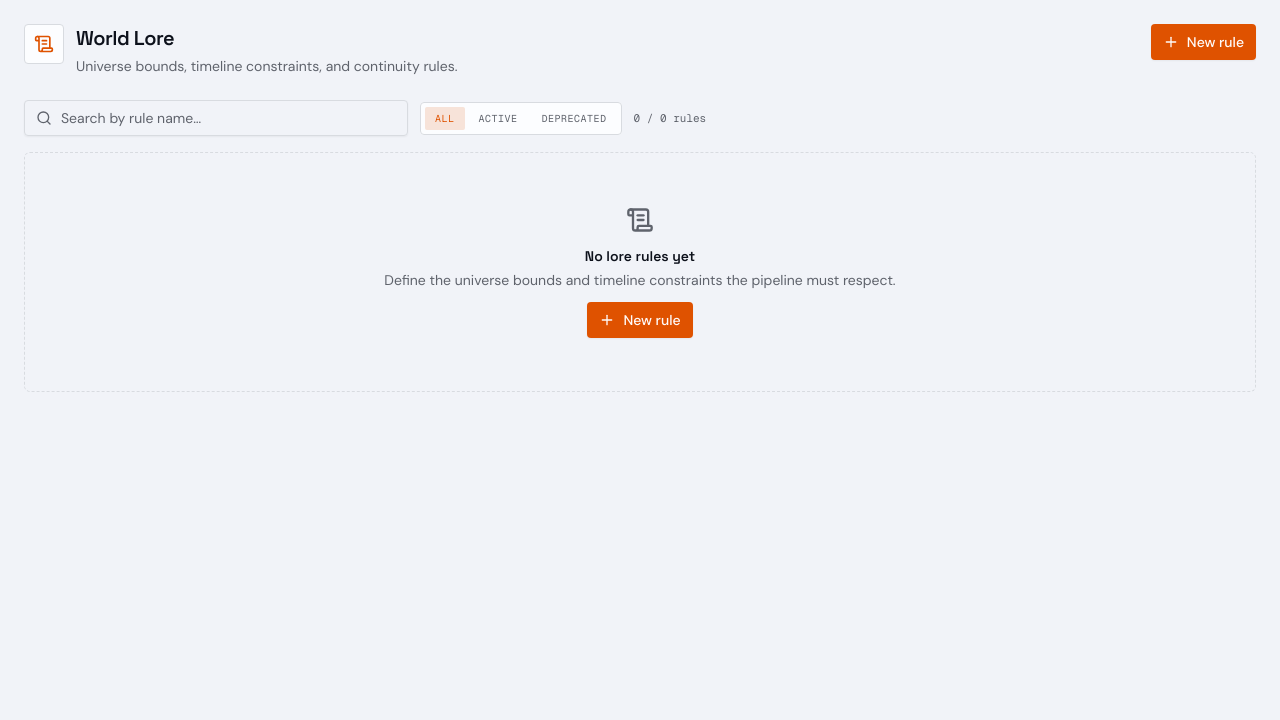
it: LorePage › requires all fields before creating
Click the button with test id "lore.create_button". click: coordinates (1203, 42)
box: [1151, 24, 1256, 60]
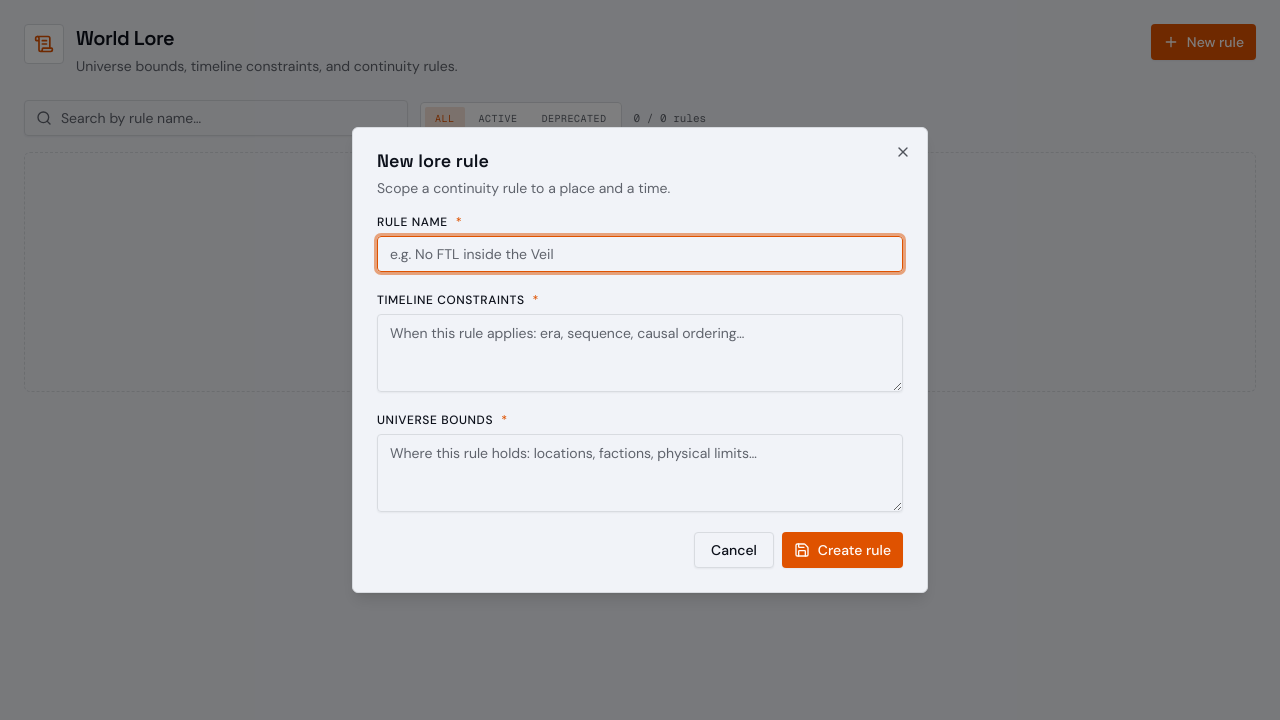
Click the button with test id "lore.submit_button". click: coordinates (842, 550)
box: [782, 532, 903, 568]
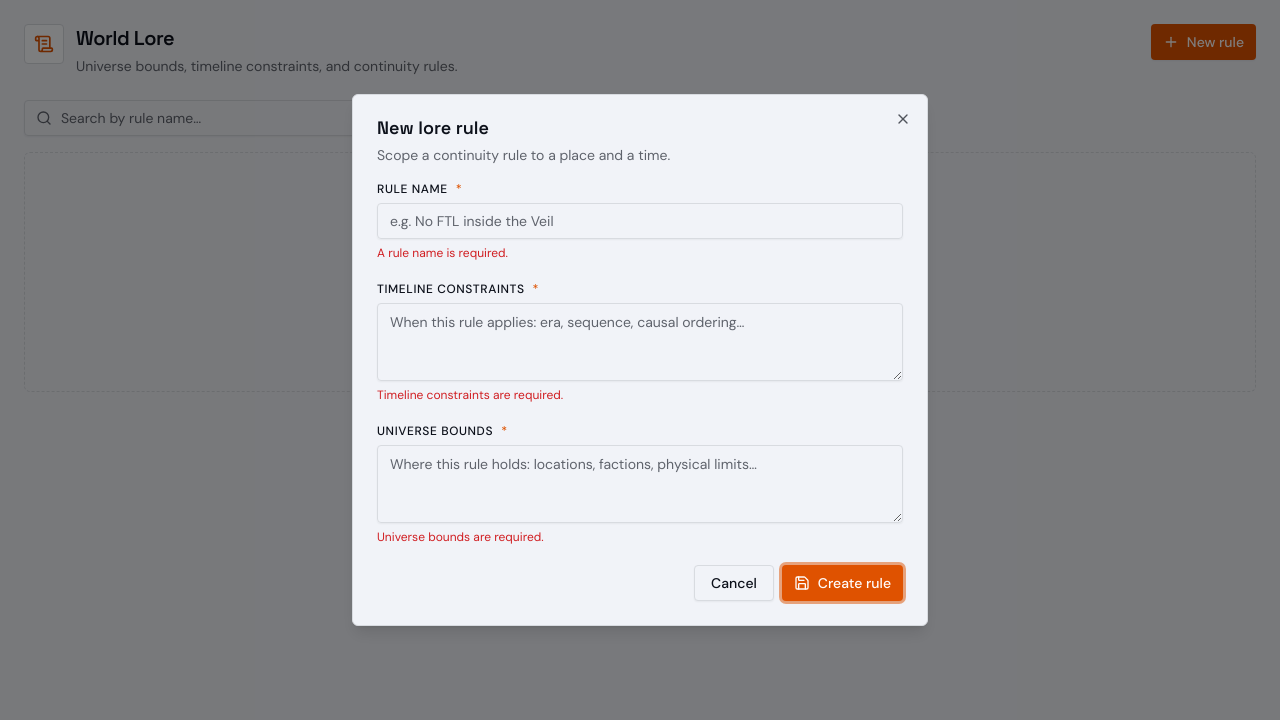
Expected: the text "A rule name is required." is shown, [377, 245, 508, 261]
Expected: the text "Timeline constraints are required." is shown, [377, 387, 563, 403]
Expected: the text "Universe bounds are required." is shown, [377, 529, 544, 545]
